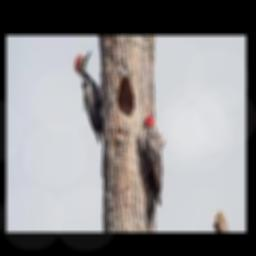Woodpecker: (73, 49, 103, 143), (140, 115, 162, 231)
